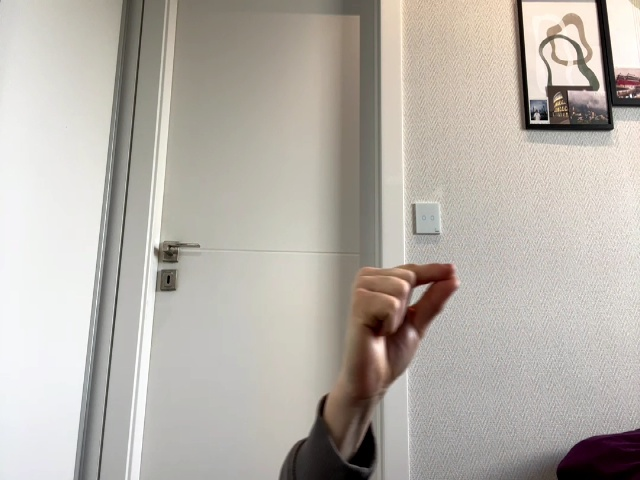P: (343, 263, 460, 394)
